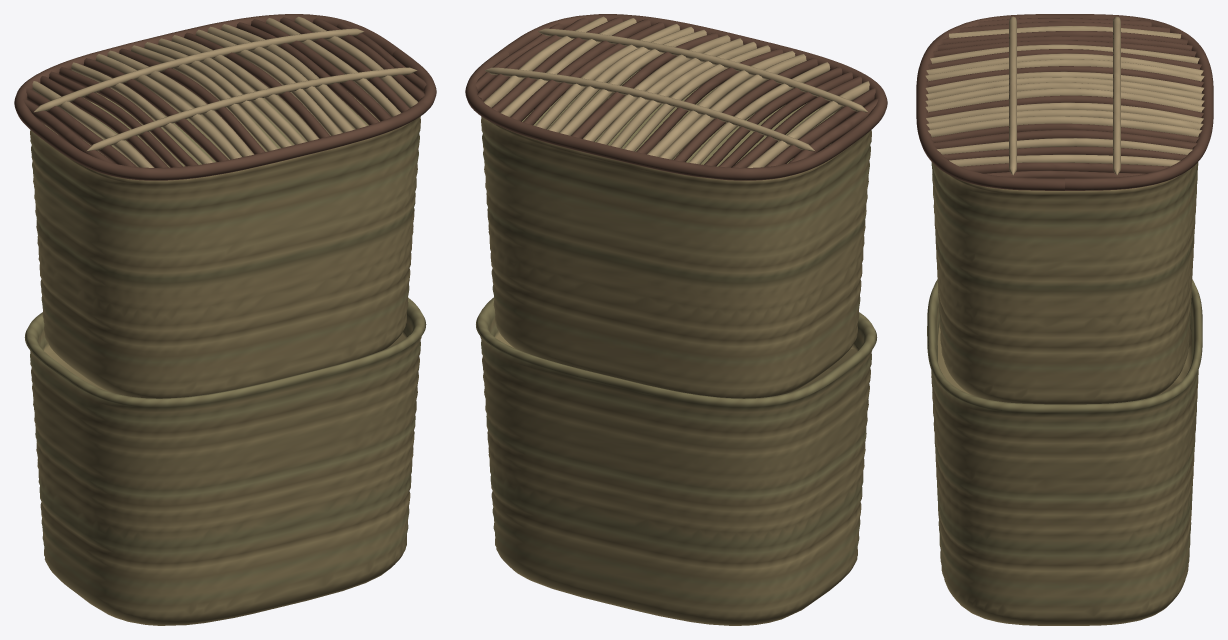
The model's file is camp-store-grown.glb.
3 views of the same model, side by side, from view 1: azimuth 30°, elevation 25°; view 2: azimuth 150°, elevation 25°; view 3: azimuth 270°, elevation 25° (orthographic). The views are drawn at different scales.
Parts seen in each view (by area): view 1: camp-store-grown; view 2: camp-store-grown; view 3: camp-store-grown.
Part boxes in pixels (bbox=[...]): camp-store-grown: bbox=[14, 14, 436, 625]; camp-store-grown: bbox=[465, 14, 887, 625]; camp-store-grown: bbox=[916, 14, 1213, 625].
Bounding box in the file's own units: 0.541 × 0.711 × 0.4009.
